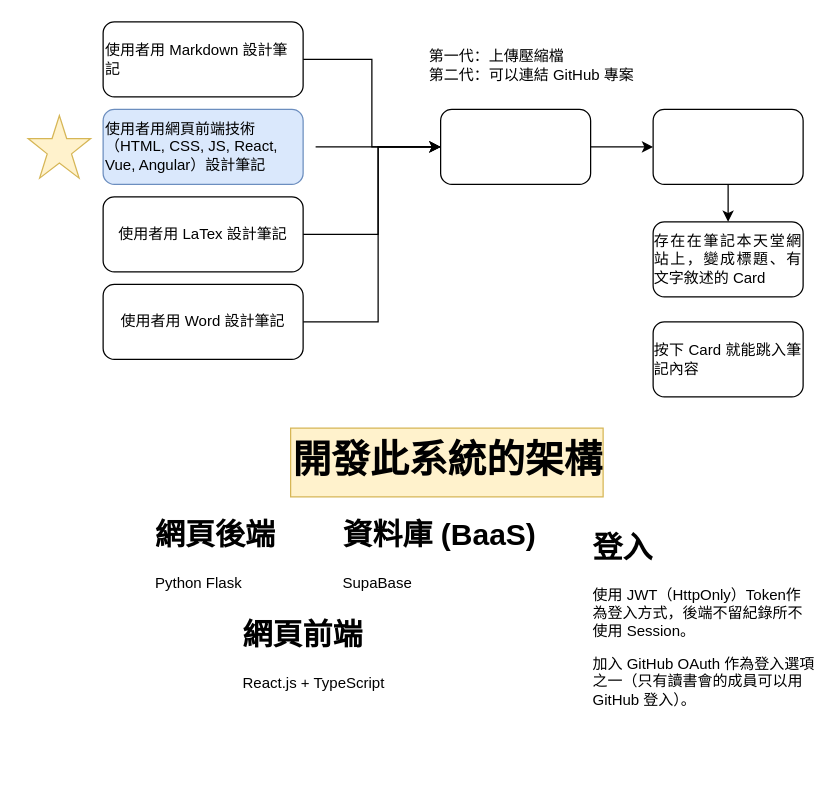
The diagram is 838 pixels wide and 785 high, and some of its shapes have lost their labels. Here are the shapes that lost their labels. From the top down, the centre of each, then its label:
At (59,146): "自由度最高".
At (515,146): "上傳到讀書天堂".
At (727,146): "為網站設定標題、文字敘述、加入所有相關的 GitHub 專案連結".
